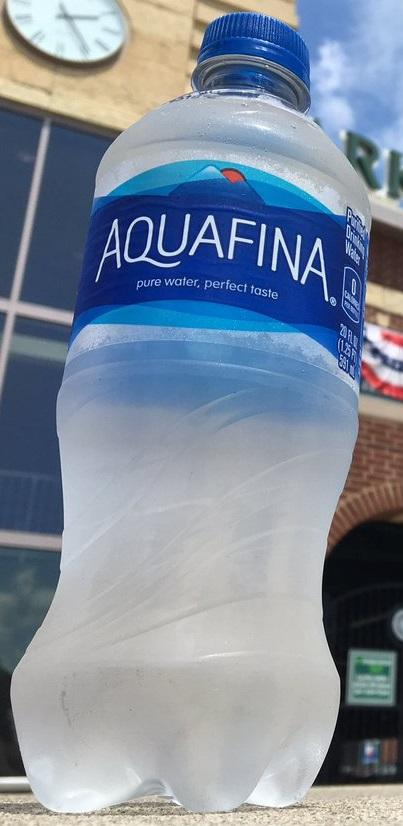bottle: (6, 59, 403, 803)
